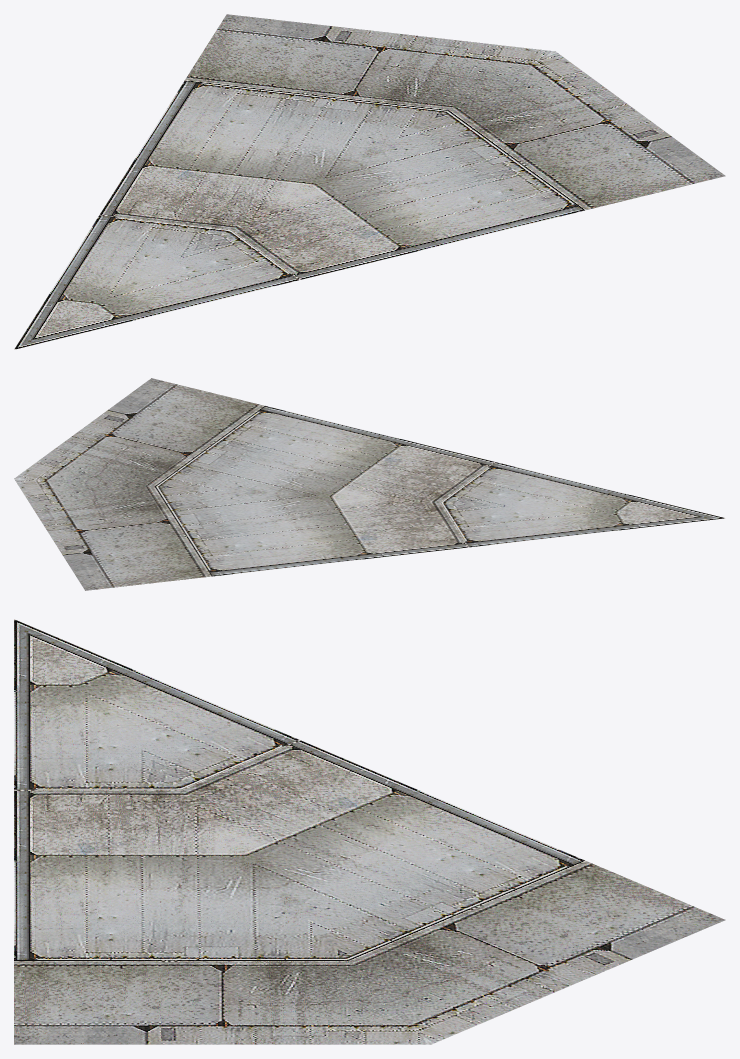
File: Ceiling_C_10.fbx
3 views of the same model, one above another, from view 1: azimuth 30°, elevation 25°; view 2: azimuth 150°, elevation 25°; view 3: azimuth 270°, elevation 25° (orthographic). The views are drawn at different scales.
Visible parts, largest first — view 1: Ceiling_C_10; view 2: Ceiling_C_10; view 3: Ceiling_C_10.
Boxes of the visible parts, box(x1,y1,x2,y2) form: Ceiling_C_10: box(14, 14, 725, 349); Ceiling_C_10: box(14, 378, 725, 590); Ceiling_C_10: box(14, 619, 725, 1044).
Size of the model in its own units: 500 by 0.00759 by 354.
1 material, 1 textured.
